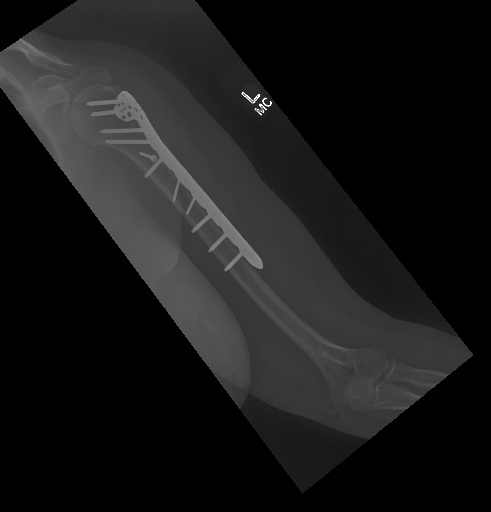implant: (86, 88, 265, 277)
